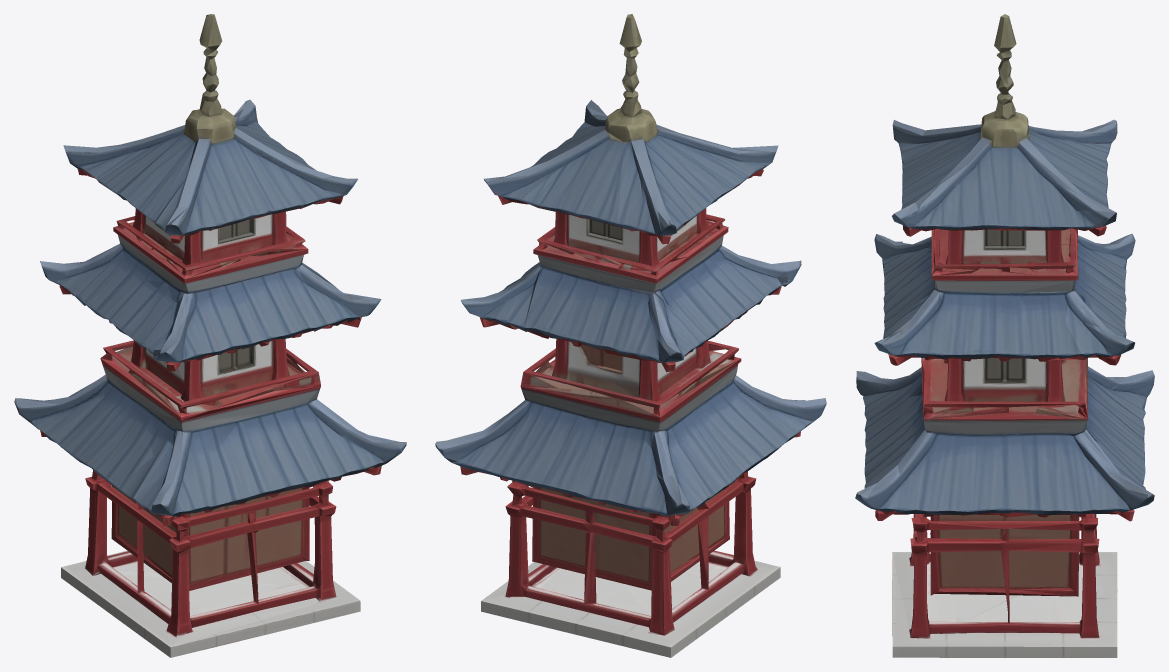
File: pagoda.glb
The picture shows the model from 3 angles, left to right: view 1: azimuth 30°, elevation 25°; view 2: azimuth 150°, elevation 25°; view 3: azimuth 270°, elevation 25°; orthographic projection. The views are drawn at different scales.
Visible parts, largest first — view 1: pagoda; view 2: pagoda; view 3: pagoda.
Part boxes in pixels (<box>): pagoda: <box>14,14,406,657</box>; pagoda: <box>435,14,826,657</box>; pagoda: <box>855,14,1154,657</box>.
Size of the model in its own units: 7.3 by 16 by 7.3.
1 material, 1 textured.
